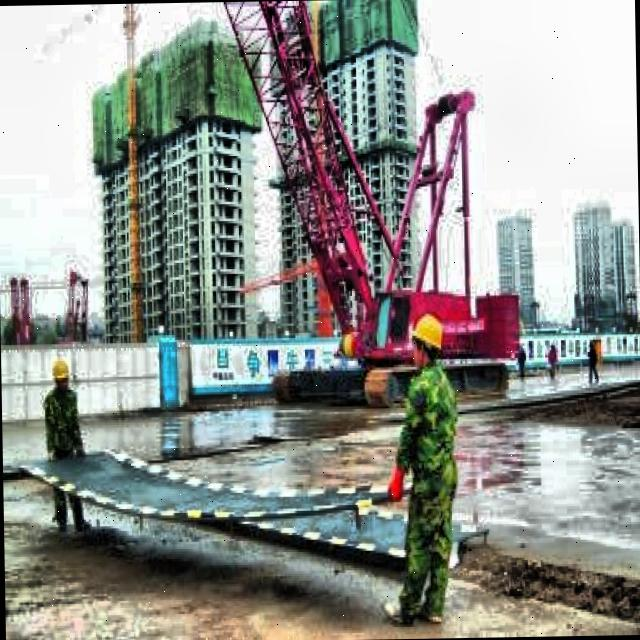helmet: (408, 306, 446, 374), (47, 351, 72, 392)
